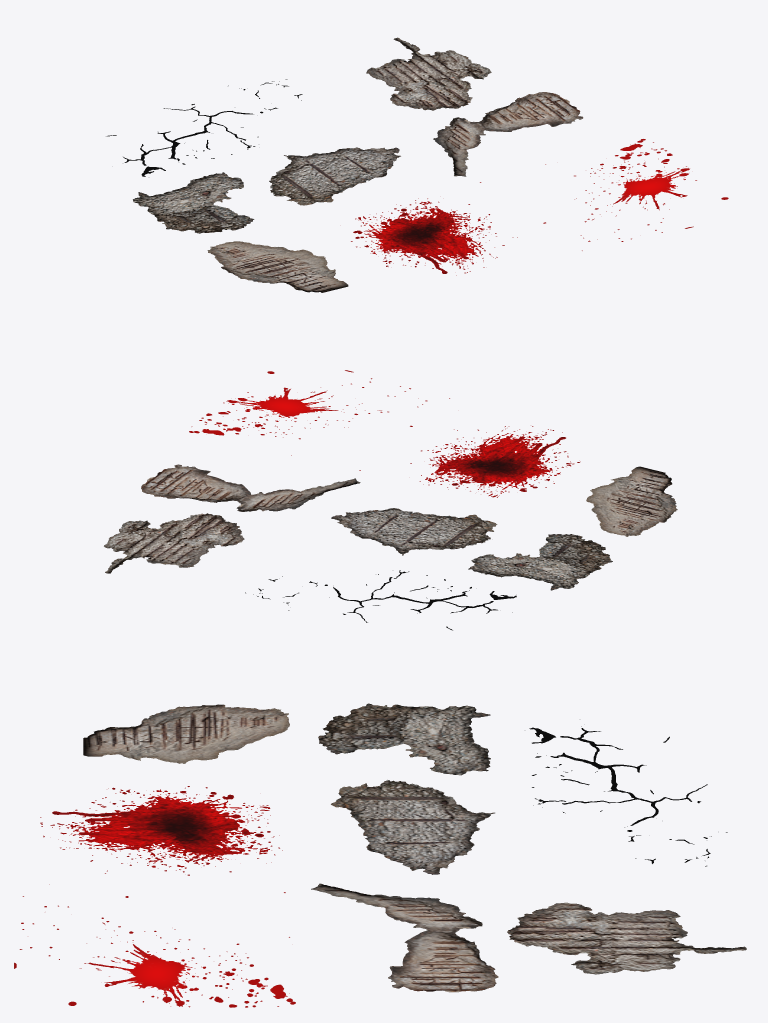
File: DecalsGroup_01.fbx
3 views of the same model, one above another, from view 1: azimuth 30°, elevation 25°; view 2: azimuth 150°, elevation 25°; view 3: azimuth 270°, elevation 25° (orthographic). The views are drawn at different scales.
Parts seen in each view (by area): view 1: Decal_01, Decal_03, BloodSplat_01, Decal_04, Decal_05, Decal_02, BloodSplat_02, Crack; view 2: Decal_01, Decal_03, BloodSplat_01, Decal_04, Decal_05, Decal_02, BloodSplat_02, Crack; view 3: Decal_01, Decal_03, BloodSplat_01, Decal_04, Decal_05, Decal_02, BloodSplat_02, Crack.
Boxes of the visible parts, left/top/right/bottom form: Decal_01: left=366, top=37, right=529, bottom=110; Decal_03: left=269, top=147, right=400, bottom=205; BloodSplat_01: left=351, top=198, right=517, bottom=275; Decal_04: left=207, top=241, right=348, bottom=292; Decal_05: left=433, top=92, right=583, bottom=176; Decal_02: left=133, top=172, right=254, bottom=233; BloodSplat_02: left=480, top=139, right=728, bottom=250; Crack: left=106, top=79, right=302, bottom=176; Decal_01: left=104, top=496, right=244, bottom=573; Decal_03: left=331, top=508, right=497, bottom=555; BloodSplat_01: left=410, top=426, right=580, bottom=497; Decal_04: left=586, top=466, right=677, bottom=536; Decal_05: left=141, top=464, right=360, bottom=511; Decal_02: left=468, top=534, right=612, bottom=590; BloodSplat_02: left=189, top=370, right=449, bottom=470; Crack: left=245, top=570, right=516, bottom=630; Decal_01: left=497, top=902, right=746, bottom=977; Decal_03: left=331, top=780, right=494, bottom=874; BloodSplat_01: left=40, top=786, right=282, bottom=875; Decal_04: left=83, top=704, right=289, bottom=763; Decal_05: left=311, top=883, right=497, bottom=992; Decal_02: left=318, top=703, right=490, bottom=775; BloodSplat_02: left=14, top=884, right=295, bottom=1007; Crack: left=529, top=726, right=727, bottom=866.
Bounding box in the file's own units: 1 × 2.22e-16 × 1.
